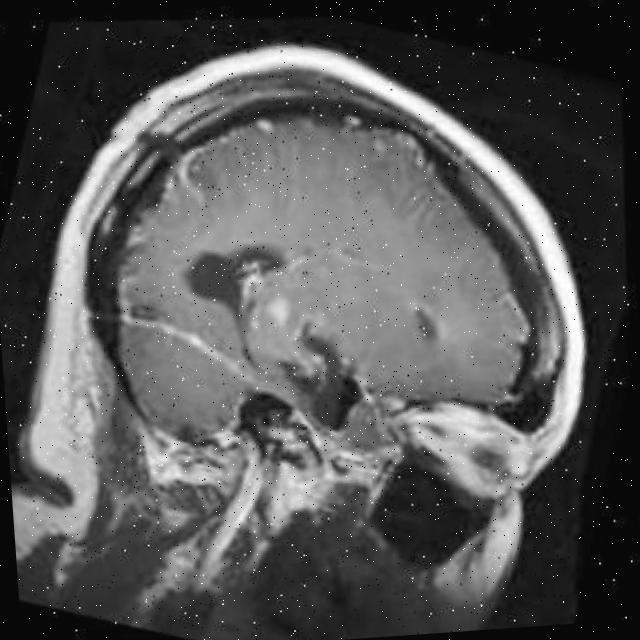MCI: (378, 282, 469, 364)
